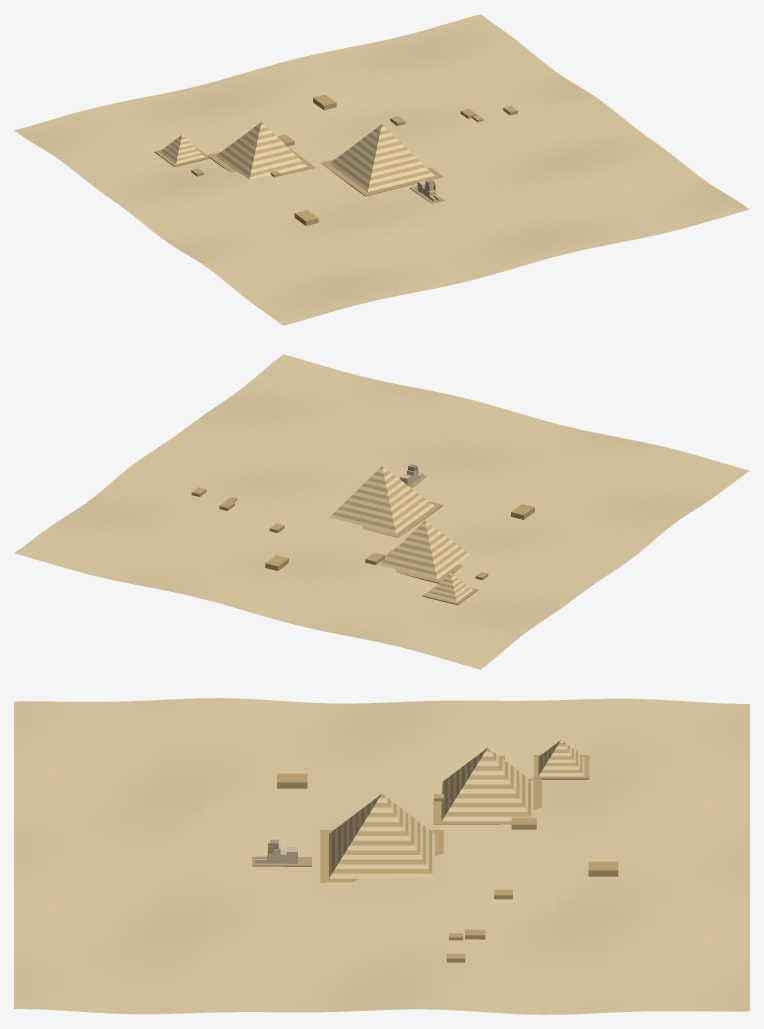
File: Giza.glb
3 views of the same model, one above another, from view 1: azimuth 30°, elevation 25°; view 2: azimuth 150°, elevation 25°; view 3: azimuth 270°, elevation 25° (orthographic). The views are drawn at different scales.
Visible parts, largest first — view 1: Giza; view 2: Giza; view 3: Giza.
Boxes of the visible parts, <box> form: Giza: <box>14,14,749,325</box>; Giza: <box>14,354,749,669</box>; Giza: <box>14,698,749,1014</box>.
Size of the model in its own units: 320 by 31.81 by 320.
